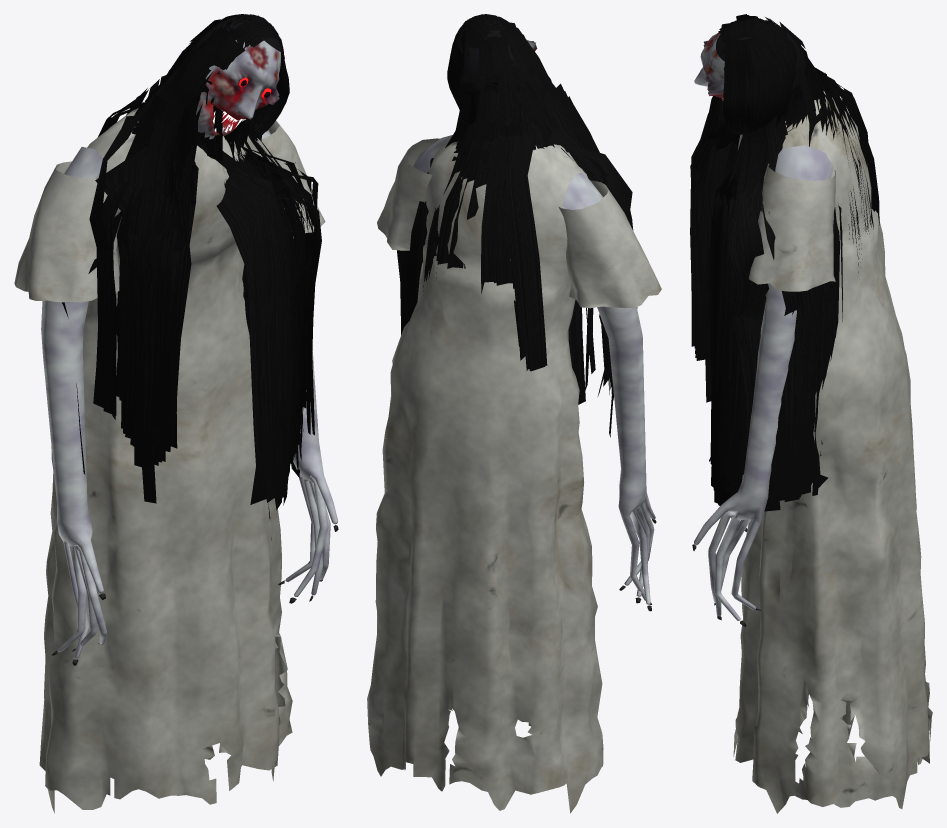
The model's file is Ma_VanNguoi.fbx.
3 views of the same model, side by side, from view 1: azimuth 30°, elevation 25°; view 2: azimuth 150°, elevation 25°; view 3: azimuth 270°, elevation 25° (orthographic). The views are drawn at different scales.
Visible parts, largest first — view 1: Vay, Toc, Than, TayAo_R, MatMa, TayAo_L; view 2: Vay, Toc, Than, TayAo_R, TayAo_L, DaDau; view 3: Vay, Toc, Than, TayAo_L, MatMa.
Part boxes in pixels (bbox=[...]): Vay: bbox=[39, 108, 292, 813]; Toc: bbox=[62, 14, 321, 510]; Than: bbox=[41, 130, 338, 658]; TayAo_R: bbox=[14, 161, 119, 302]; MatMa: bbox=[196, 40, 280, 139]; TayAo_L: bbox=[236, 120, 325, 245]; Vay: bbox=[367, 141, 603, 813]; Toc: bbox=[397, 14, 637, 437]; Than: bbox=[413, 135, 655, 604]; TayAo_R: bbox=[558, 180, 661, 308]; TayAo_L: bbox=[377, 138, 439, 250]; DaDau: bbox=[460, 21, 517, 100]; Vay: bbox=[733, 91, 932, 813]; Toc: bbox=[690, 14, 879, 511]; Than: bbox=[694, 145, 833, 620]; TayAo_L: bbox=[749, 163, 835, 291]; MatMa: bbox=[694, 32, 724, 101].
Bounding box in the file's own units: 0.7465 × 1.92 × 0.536.
